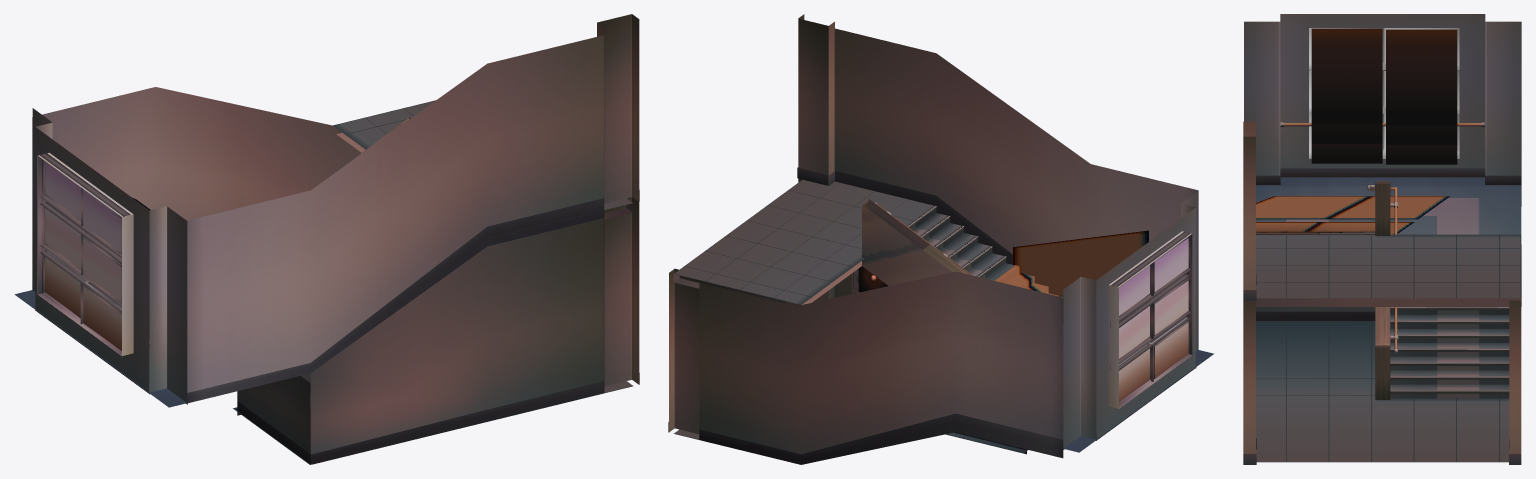
File: JpsStairs_lowfloorA_evening.FBX
The picture shows the model from 3 angles, left to right: view 1: azimuth 30°, elevation 25°; view 2: azimuth 150°, elevation 25°; view 3: azimuth 270°, elevation 25°; orthographic projection. The views are drawn at different scales.
Visible parts, largest first — view 1: Sta_LowF_A_wallB_eve, Sta_LowF_A_window_eve, Sta_LowF_A_wallF_eve, Sta_LowF_A_stairs_eve; view 2: Sta_LowF_A_wallF_eve, Sta_LowF_A_wallB_eve, Sta_LowF_A_stairs_eve, Sta_LowF_A_window_eve, Sta_LowF_A_spotB_eve, Sta_LowF_A_spotF_eve; view 3: Sta_LowF_A_stairs_eve, Sta_LowF_A_window_eve, Sta_LowF_A_beam01_add_eve, Sta_LowF_A_spotF_eve, Sta_LowF_A_wallB_eve, Sta_LowF_A_baseboards_eve, Sta_LowF_A_wallF_eve, Sta_LowF_A_beam_add_eve.
Boxes of the visible parts, x1,y1,x2,y2 form: Sta_LowF_A_wallB_eve: (187,14,639,464); Sta_LowF_A_window_eve: (32,108,187,403); Sta_LowF_A_wallF_eve: (32,87,361,289); Sta_LowF_A_stairs_eve: (14,100,633,464); Sta_LowF_A_wallF_eve: (668,268,1063,464); Sta_LowF_A_wallB_eve: (797,14,1198,302); Sta_LowF_A_stairs_eve: (673,179,1213,454); Sta_LowF_A_window_eve: (1063,191,1198,448); Sta_LowF_A_spotB_eve: (1013,230,1148,297); Sta_LowF_A_spotF_eve: (994,265,1059,296); Sta_LowF_A_stairs_eve: (1256,177,1521,462); Sta_LowF_A_window_eve: (1244,14,1521,175); Sta_LowF_A_beam01_add_eve: (1311,28,1457,164); Sta_LowF_A_spotF_eve: (1256,196,1449,234); Sta_LowF_A_wallB_eve: (1243,121,1256,464); Sta_LowF_A_baseboards_eve: (1256,168,1521,184); Sta_LowF_A_wallF_eve: (1509,149,1521,464); Sta_LowF_A_beam_add_eve: (1309,28,1459,158).
Size of the model in its own units: 826 by 607 by 461.
